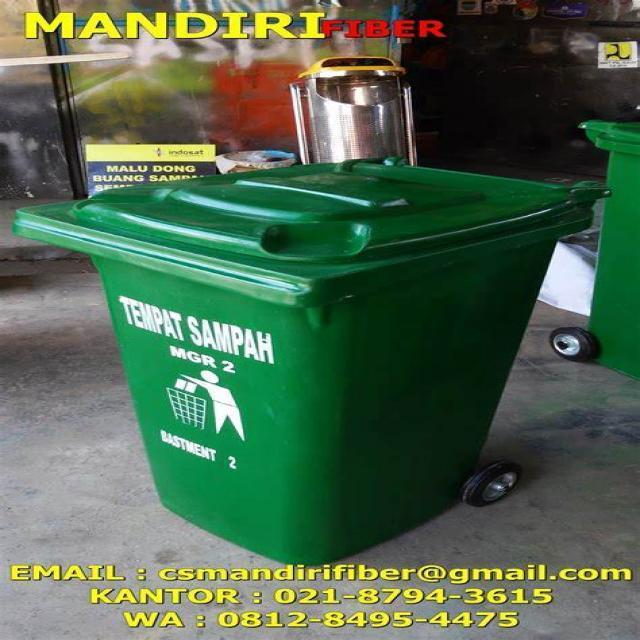garbage container: (2, 126, 615, 562)
